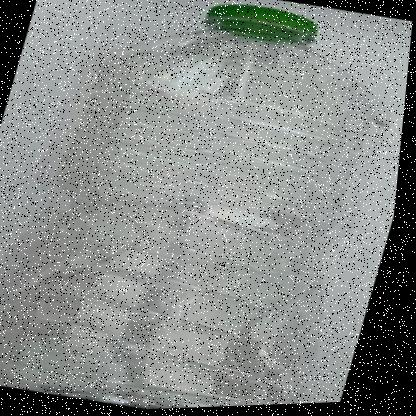bottle cap: (60, 1, 416, 162)
